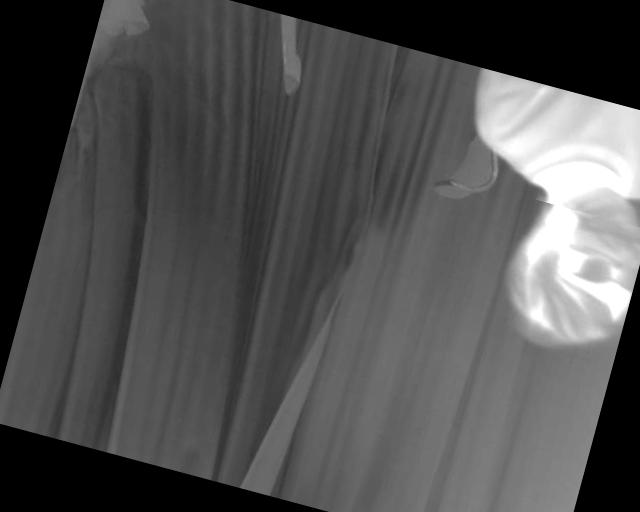face: (490, 167, 640, 361)
